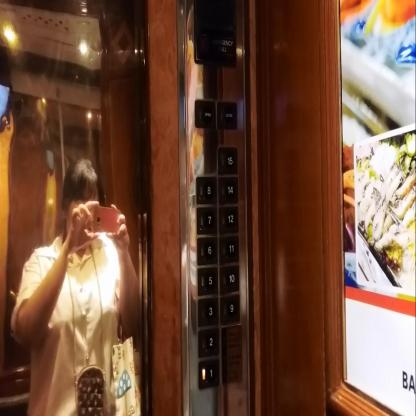1: (197, 358, 219, 389)
10: (218, 263, 240, 294)
11: (218, 233, 239, 264)
12: (217, 204, 239, 235)
14: (217, 174, 238, 206)
15: (217, 145, 238, 176)
2: (197, 326, 219, 358)
3: (197, 295, 219, 326)
5: (196, 266, 218, 297)
6: (196, 235, 218, 266)
7: (196, 204, 217, 236)
8: (196, 174, 217, 206)
9: (219, 293, 240, 324)
text_close door: (217, 98, 237, 129)
text_open door: (194, 98, 216, 128)
